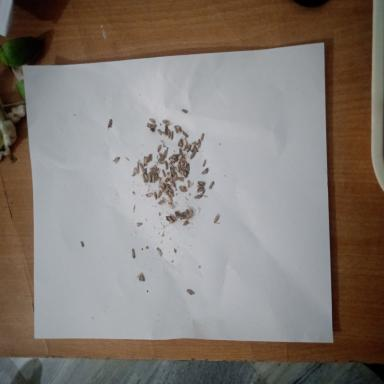pbw: (158, 153, 166, 162), (146, 123, 157, 129), (156, 247, 162, 257), (107, 118, 112, 130), (138, 273, 145, 281), (162, 118, 170, 125), (142, 173, 148, 182), (183, 218, 189, 226), (186, 289, 194, 295), (208, 181, 214, 189), (190, 151, 196, 159), (182, 130, 188, 138), (164, 185, 170, 193), (132, 167, 137, 176), (158, 189, 163, 198), (152, 172, 156, 183), (162, 149, 168, 156), (214, 216, 220, 223), (197, 186, 204, 192), (167, 191, 174, 197), (148, 172, 152, 182), (144, 156, 148, 166), (178, 138, 182, 148), (170, 166, 174, 176), (168, 202, 174, 208), (187, 179, 191, 188), (202, 168, 208, 174), (114, 157, 120, 163), (165, 124, 168, 136), (174, 172, 178, 181), (146, 192, 153, 197), (147, 154, 151, 162), (194, 194, 202, 198), (140, 164, 144, 172), (162, 169, 166, 177), (176, 126, 181, 132), (170, 181, 175, 187), (164, 177, 170, 182), (183, 144, 188, 150), (136, 165, 139, 175), (168, 195, 172, 202), (198, 181, 205, 185), (157, 145, 161, 152), (186, 145, 190, 152), (178, 148, 182, 155), (187, 163, 190, 172), (202, 160, 206, 166), (194, 145, 198, 151), (165, 161, 168, 169), (174, 126, 178, 132), (178, 177, 184, 181), (158, 200, 164, 204), (192, 142, 198, 146), (154, 192, 157, 199), (201, 133, 204, 140), (197, 185, 204, 188), (169, 157, 174, 161), (137, 222, 142, 226), (168, 128, 170, 138), (150, 119, 156, 122), (158, 129, 161, 135), (198, 139, 200, 147), (171, 132, 173, 140)
